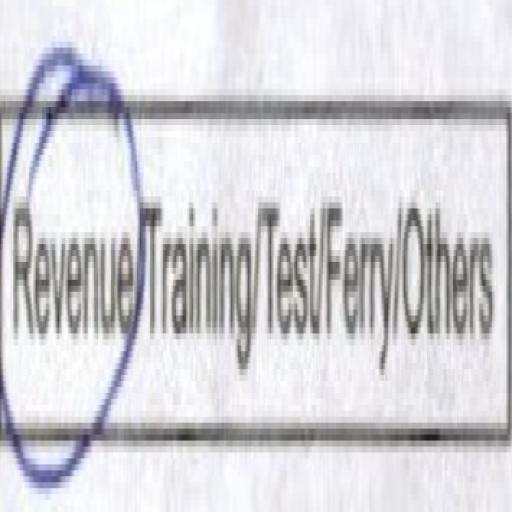check: (0, 10, 138, 506)
